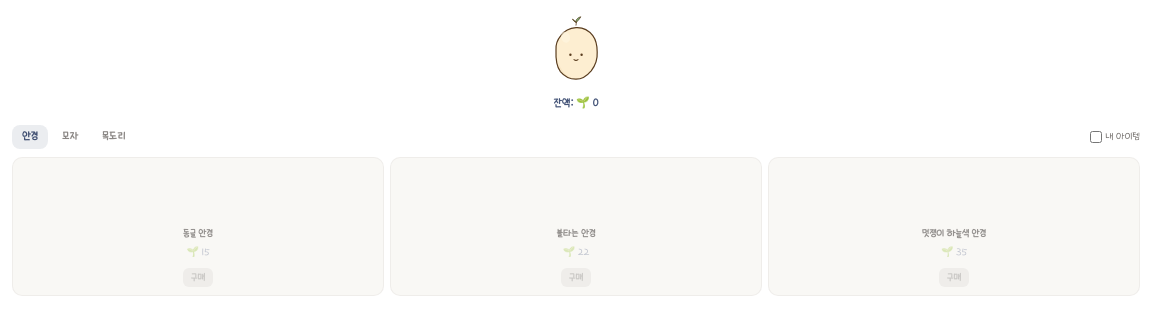
ShopTab › AC-17: '내 아이템' 토글 시 owned 아이템만 표시
Expected: the text "동글 안경" is shown, [183,226,213,241]
Expected: the text "불타는 안경" is shown, [556,226,596,241]
# "내 아이템" 체크박스 클릭.
What coordinates should you click on to do the following:
click the checkbox labelled "내 아이템"
I would click on:
 (1096, 137)
Its box is [1090,131,1102,143].
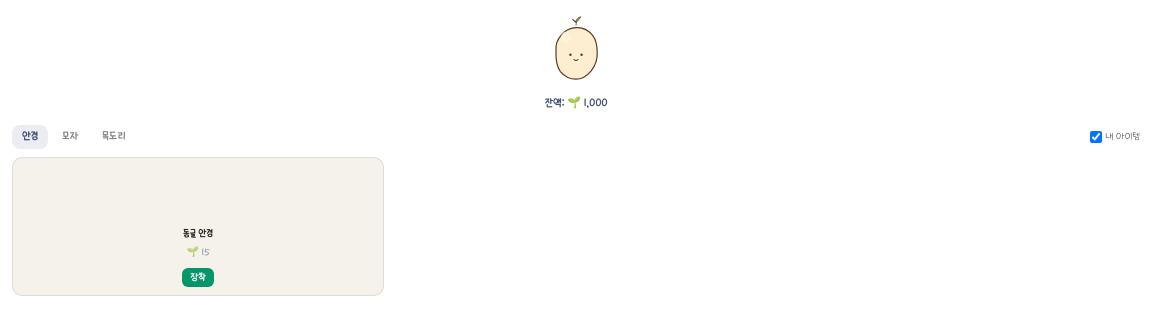
Expected: the text "동글 안경" is shown, [183,226,213,241]
Now the text "불타는 안경" is gone
Now the text "멋쟁이 하늘색 안경" is gone
